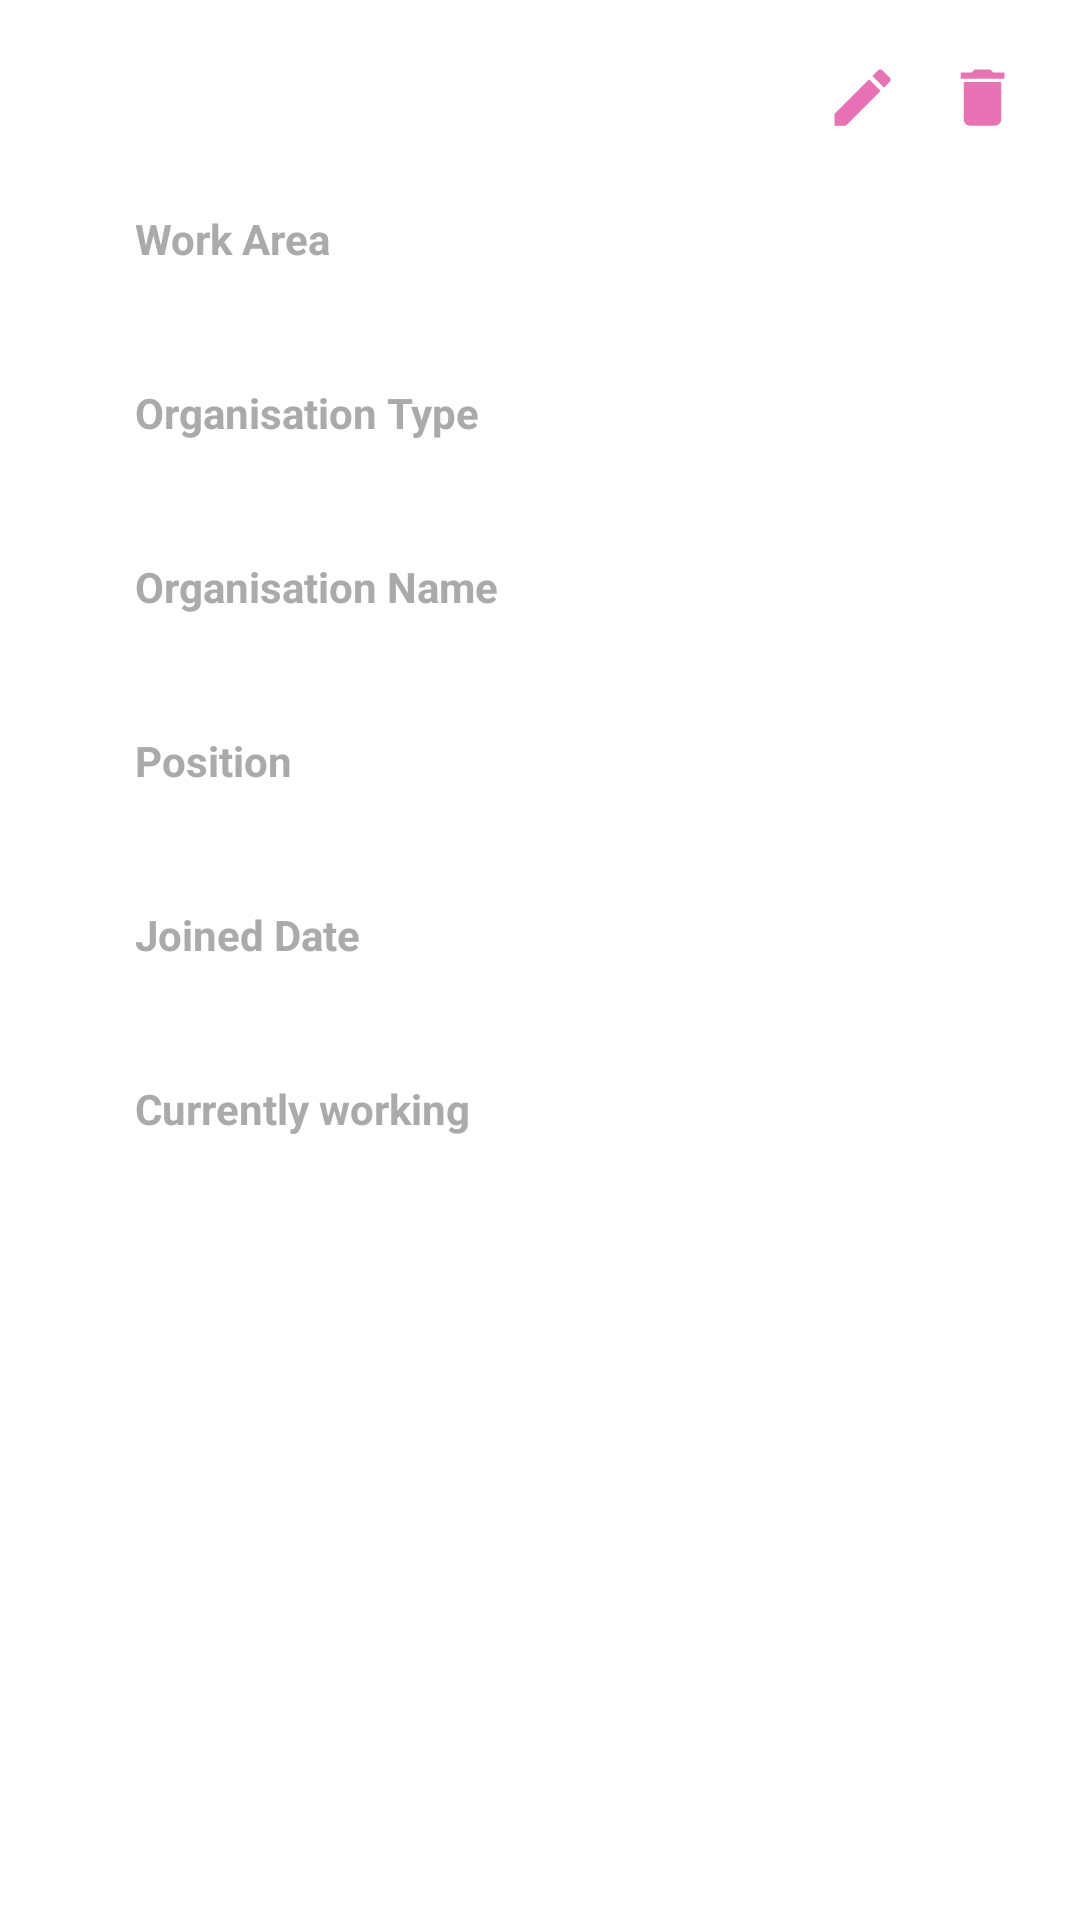

Point at icon controls on the screen. Image size 1080x1920, points as (x=x, y=y).
delete: (x=982, y=97)
edit: (x=862, y=97)
